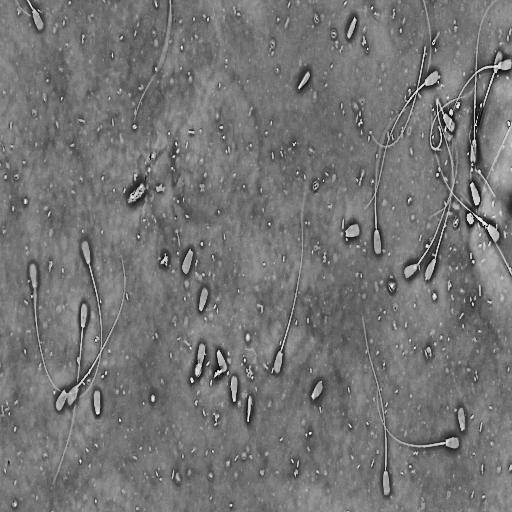coiled-tail: (194, 363, 202, 378)
dirt-particles: (368, 41, 428, 150), (125, 176, 149, 206), (159, 250, 170, 268), (465, 210, 475, 227)
folded-tail: (437, 99, 454, 176)
loose-head: (180, 246, 194, 276), (297, 67, 313, 93), (215, 347, 229, 376), (197, 284, 210, 314), (346, 13, 359, 42), (469, 178, 482, 207), (54, 387, 68, 413), (229, 372, 240, 405), (310, 378, 325, 402), (92, 386, 103, 418), (343, 221, 361, 240), (456, 404, 466, 434)
loose-tail: (429, 82, 479, 152)
normal: (363, 69, 440, 210), (64, 253, 127, 408), (402, 135, 458, 281), (27, 260, 85, 397), (432, 133, 502, 244), (51, 299, 89, 488), (273, 192, 307, 376), (375, 377, 460, 450), (470, 47, 504, 223), (360, 306, 391, 499), (447, 57, 512, 146), (72, 239, 104, 400), (423, 135, 455, 283), (469, 0, 497, 166), (371, 119, 391, 258), (436, 97, 456, 180), (195, 342, 207, 379)
